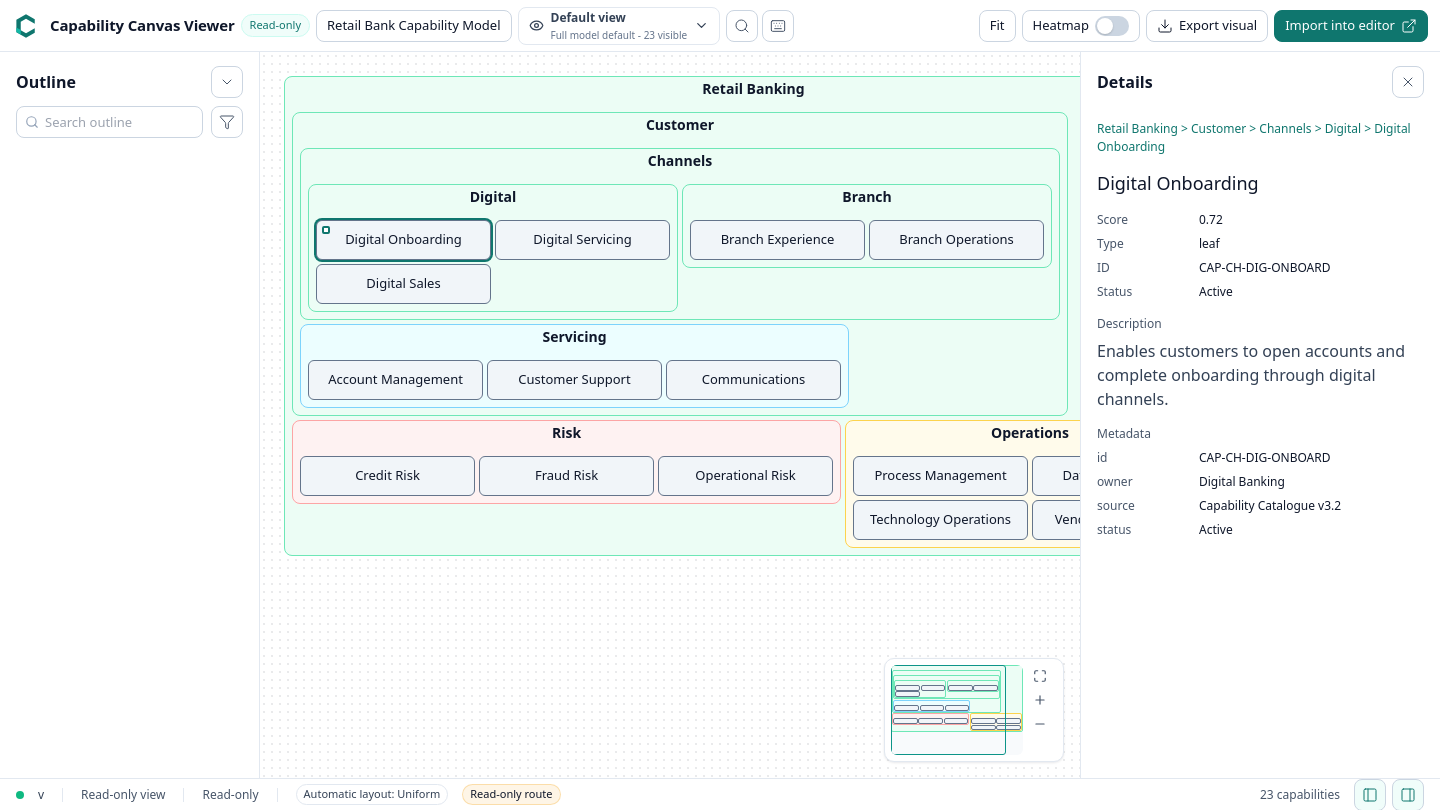
viewer route workflows › collapses and restores viewer side panels
The image size is (1440, 810).
Click the button named "Collapse outline": coordinates (227, 82) [211,66,243,98]
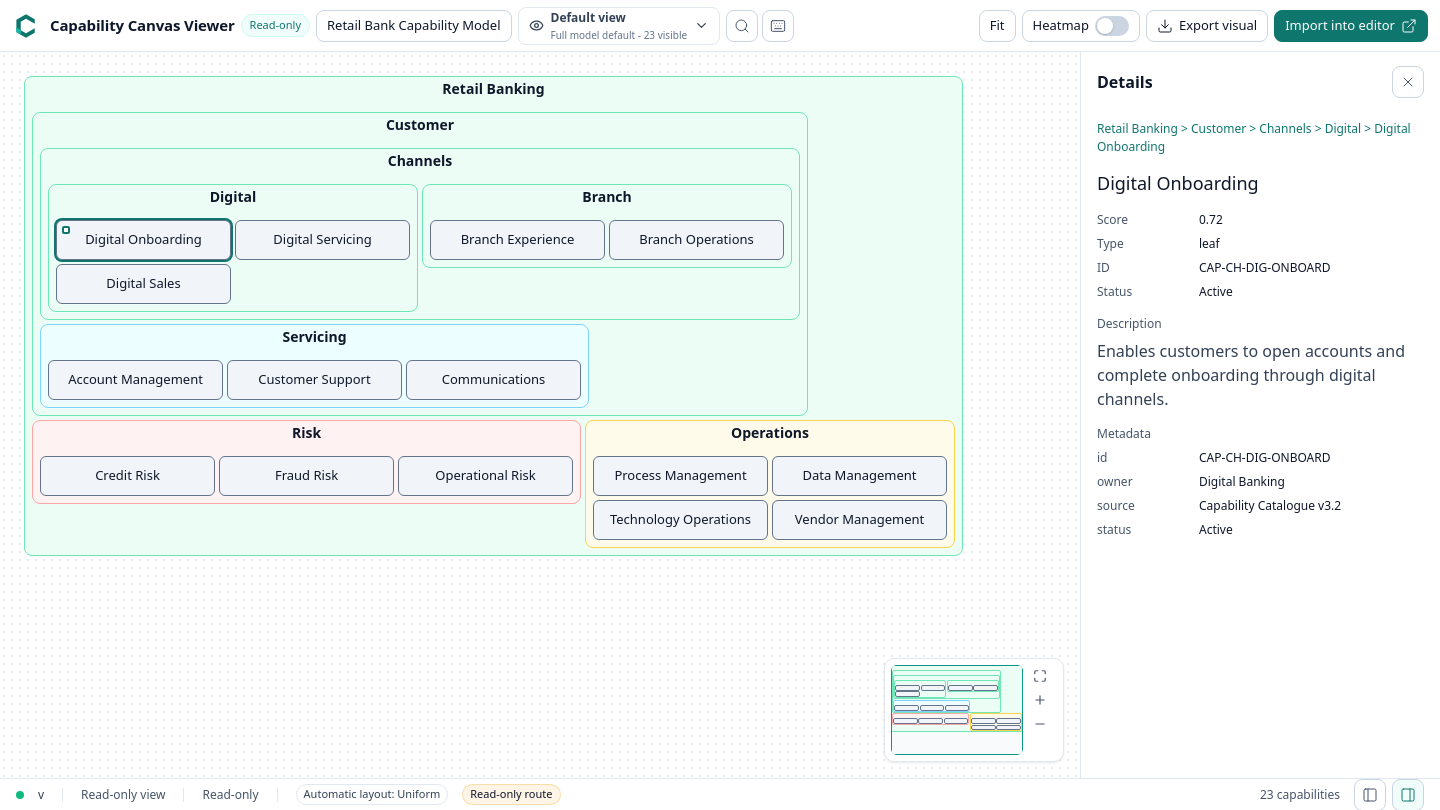
Check: the text "Outline" is gone
Click the button named "Show outline": coordinates (1370, 794) [1354,778,1386,809]
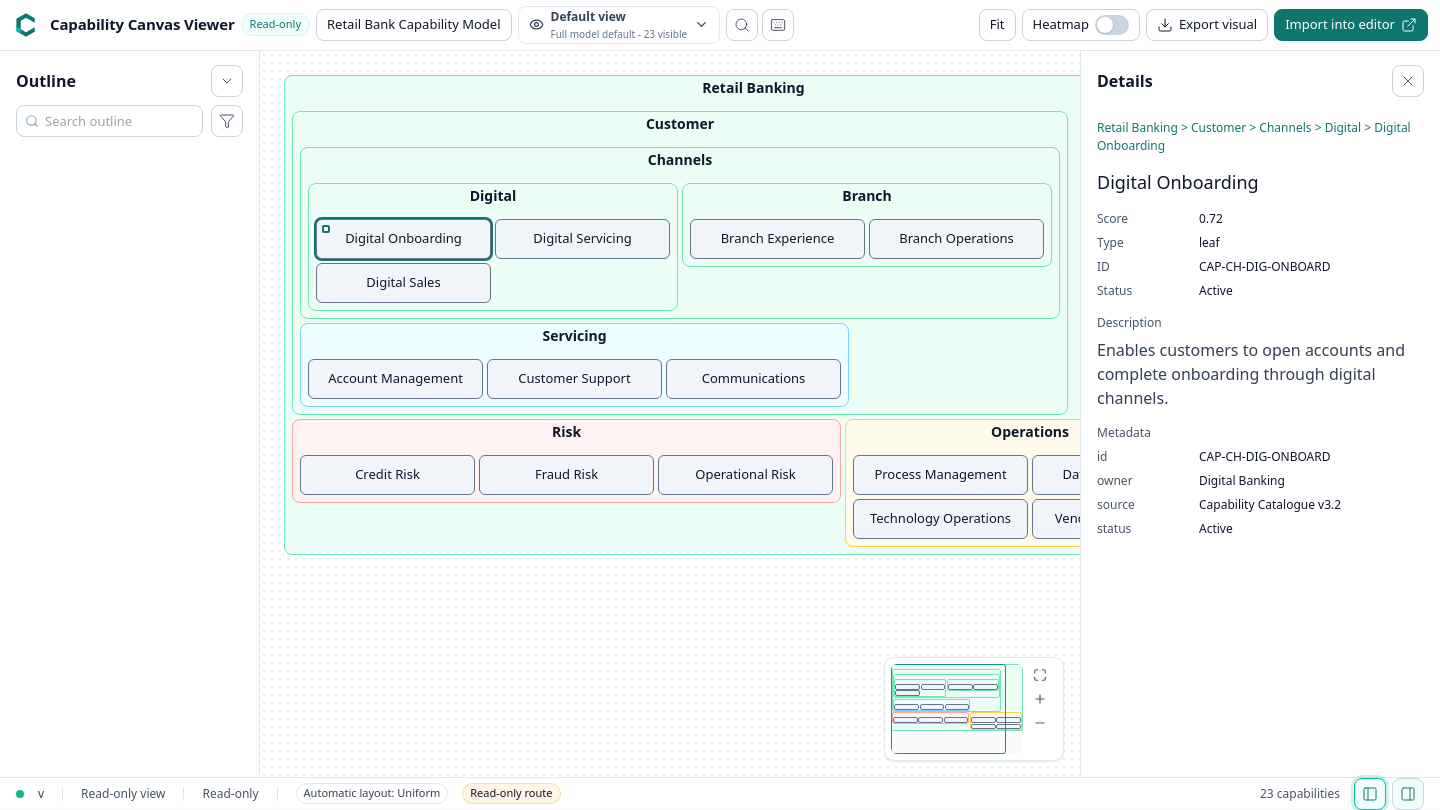
Check: the text "Outline" is shown, box [16,69,76,93]
Click the button named "Collapse inspector": coordinates (1408, 81) [1392,65,1424,97]
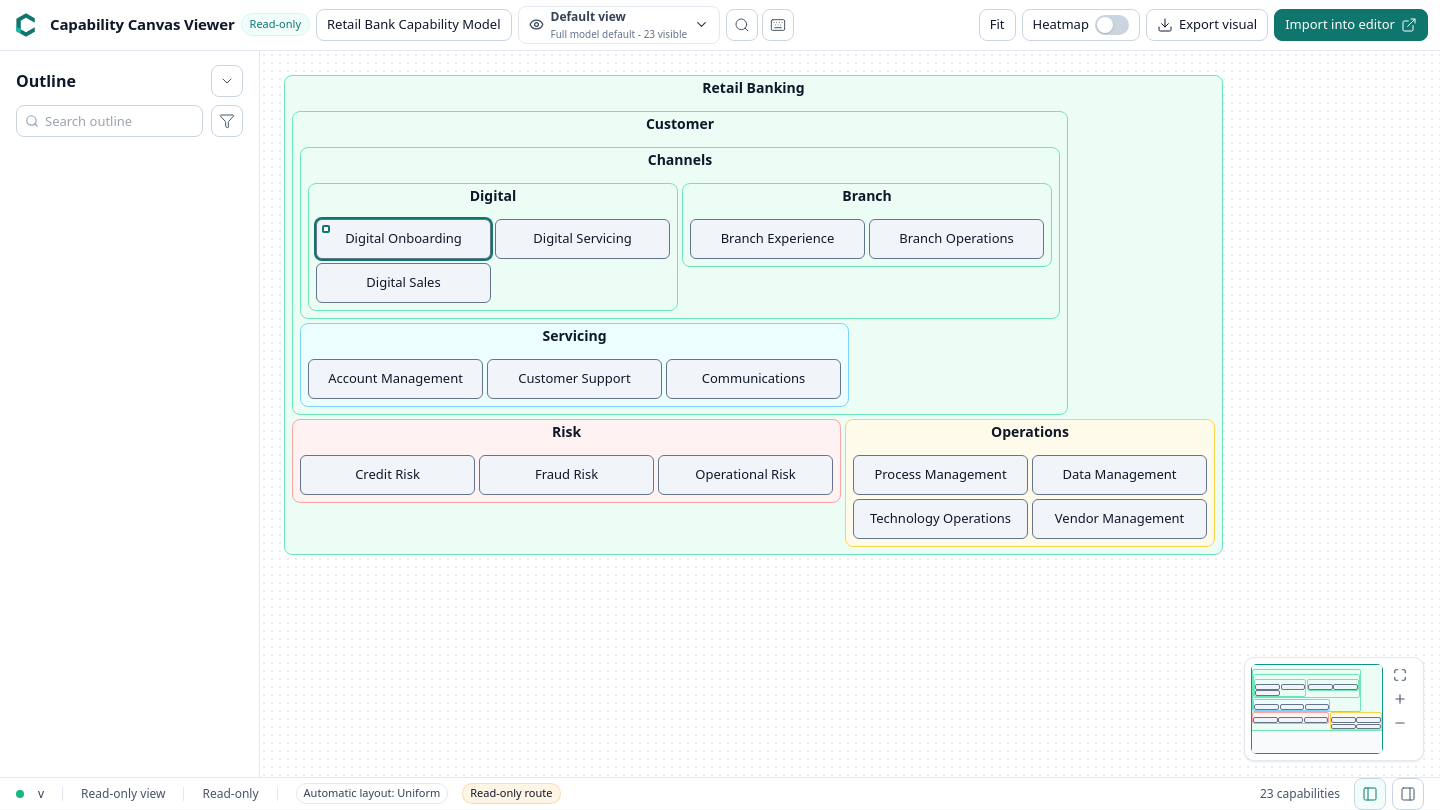
Check: the text "Details" is gone
Click the button named "Show details": coordinates (1408, 794) [1392,778,1424,809]
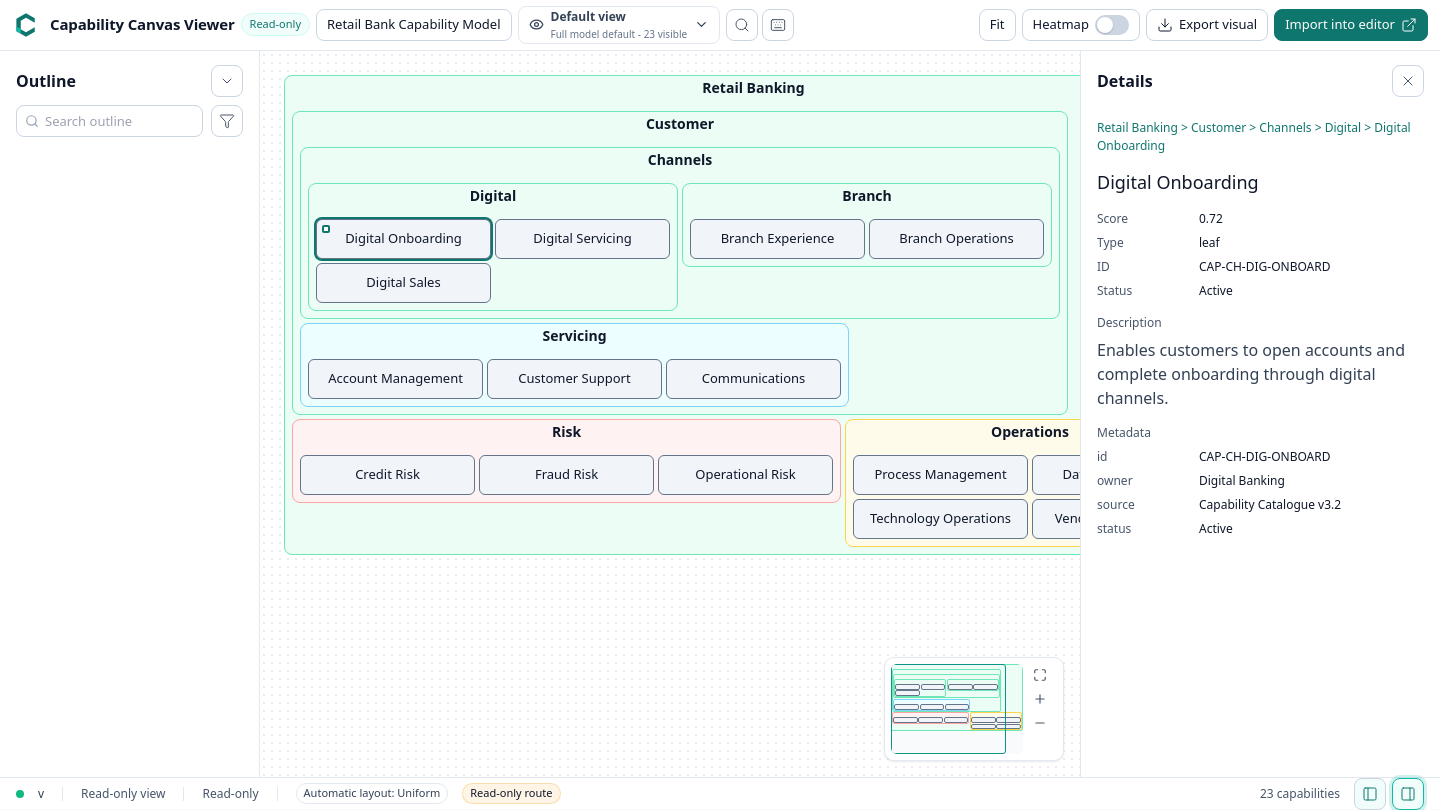
Check: the text "Details" is shown, box [1097,69,1153,93]
